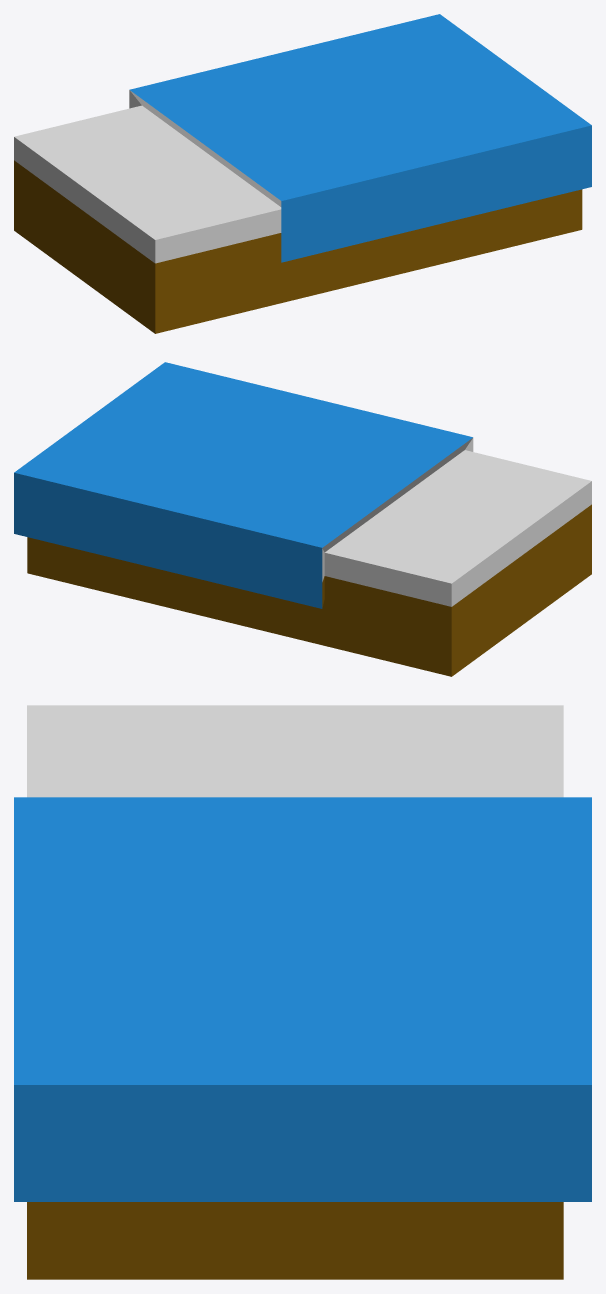
The model's file is Bed.fbx.
3 views of the same model, one above another, from view 1: azimuth 30°, elevation 25°; view 2: azimuth 150°, elevation 25°; view 3: azimuth 270°, elevation 25° (orthographic). The views are drawn at different scales.
Parts seen in each view (by area): view 1: Bed; view 2: Bed; view 3: Bed.
Boxes of the visible parts, x1,y1,x2,y2 form: Bed: [14, 14, 591, 333]; Bed: [14, 362, 591, 676]; Bed: [14, 705, 591, 1279].
Size of the model in its own units: 243 by 56.57 by 148.
